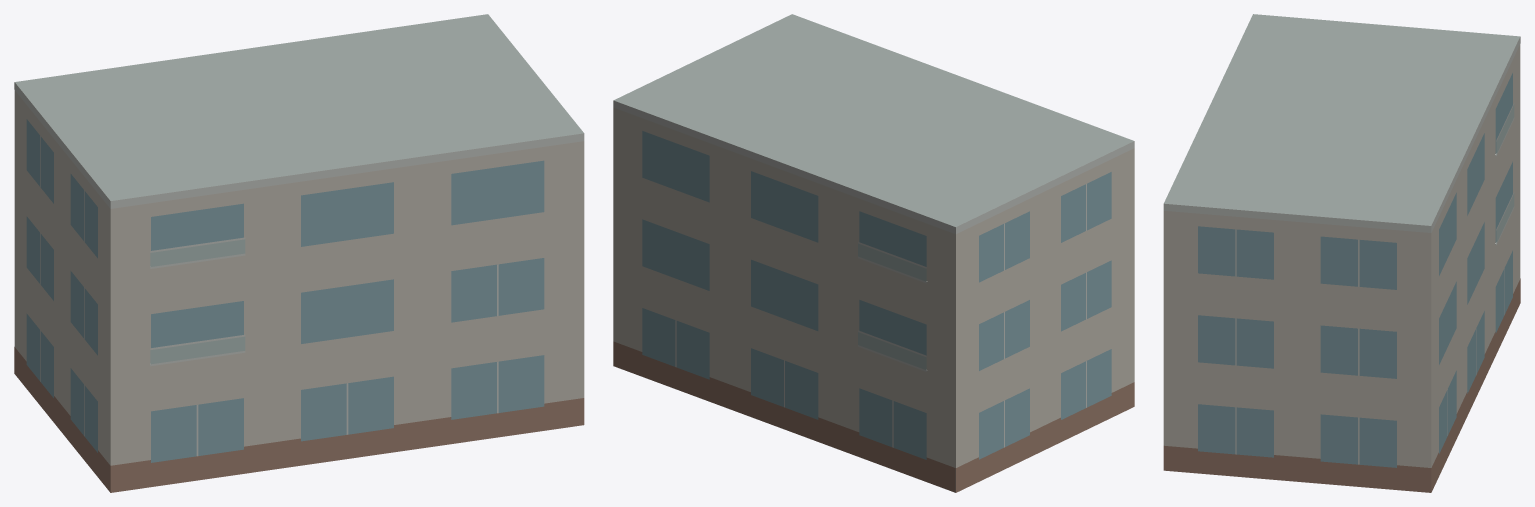
Rendered from survey-upis-32828235.glb.
3 renders of one model, left to right at view 1: azimuth 30°, elevation 25°; view 2: azimuth 150°, elevation 25°; view 3: azimuth 270°, elevation 25°, orthographic. The views are drawn at different scales.
Parts seen in each view (by area): view 1: survey-upis-32828235.tmp; view 2: survey-upis-32828235.tmp; view 3: survey-upis-32828235.tmp.
Boxes of the visible parts, bbox=[...] form: survey-upis-32828235.tmp: bbox=[14, 14, 584, 492]; survey-upis-32828235.tmp: bbox=[613, 14, 1134, 492]; survey-upis-32828235.tmp: bbox=[1163, 14, 1520, 492].
Size of the model in its own units: 15.6 by 9.15 by 11.1.
